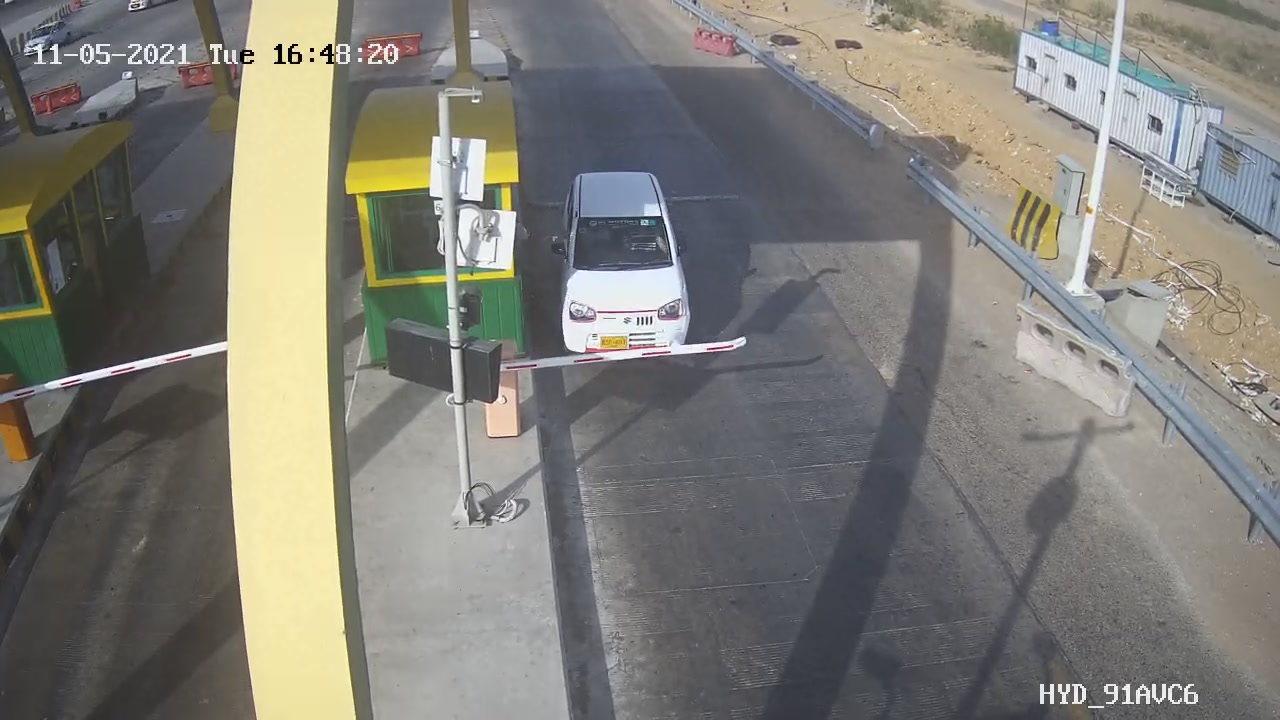F1: (534, 153, 716, 372)
